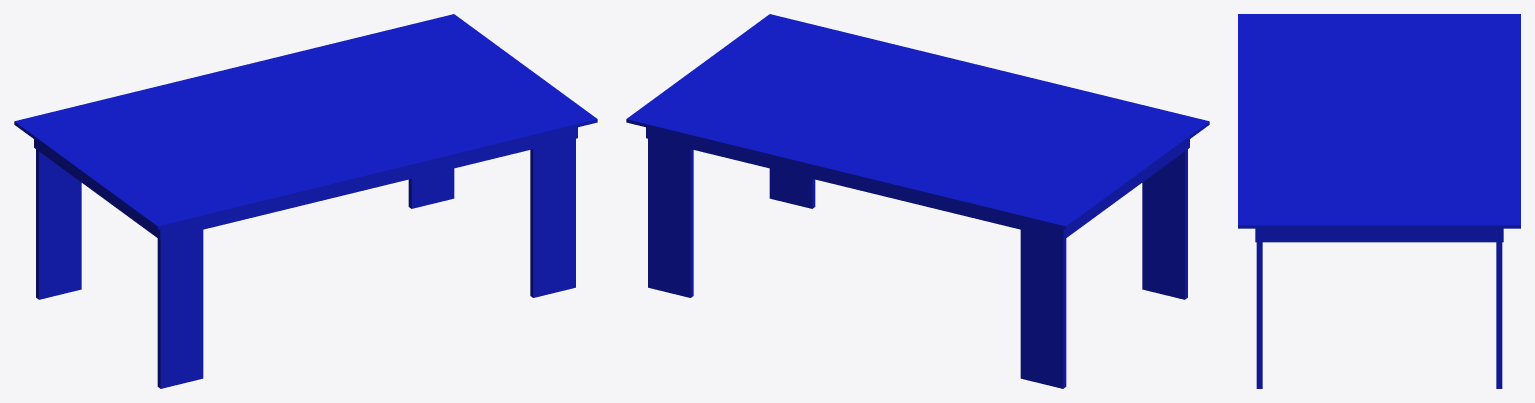
The model's file is table.glb.
The picture shows the model from 3 angles, left to right: view 1: azimuth 30°, elevation 25°; view 2: azimuth 150°, elevation 25°; view 3: azimuth 270°, elevation 25°; orthographic projection.
Visible parts, largest first — view 1: Cube.003_Cube.011; view 2: Cube.003_Cube.011; view 3: Cube.003_Cube.011.
Part boxes in pixels (x1=…): Cube.003_Cube.011: x1=14, y1=14, x2=597, y2=388; Cube.003_Cube.011: x1=626, y1=14, x2=1209, y2=388; Cube.003_Cube.011: x1=1238, y1=14, x2=1520, y2=388.
Bounding box in the file's own units: 2.76 × 1.04 × 1.56.
